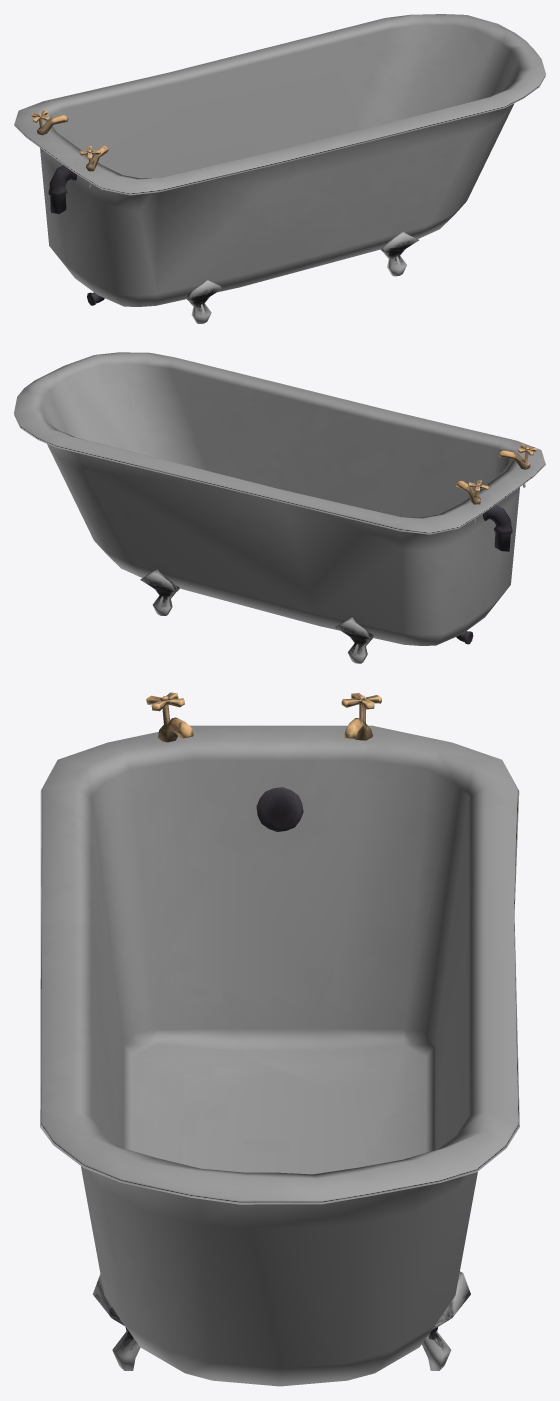
File: simple_bathtub.glb
The picture shows the model from 3 angles, top to bottom: view 1: azimuth 30°, elevation 25°; view 2: azimuth 150°, elevation 25°; view 3: azimuth 270°, elevation 25°; orthographic projection. The views are drawn at different scales.
Parts seen in each view (by area): view 1: defaultMaterial; view 2: defaultMaterial; view 3: defaultMaterial.
Boxes of the visible parts, x1,y1,x2,y2 form: defaultMaterial: (14,14,545,323); defaultMaterial: (14,352,545,663); defaultMaterial: (40,692,519,1386).
Bounding box in the file's own units: 2 × 0.7614 × 0.8708.
Materials: 1 (1 with a texture image).
